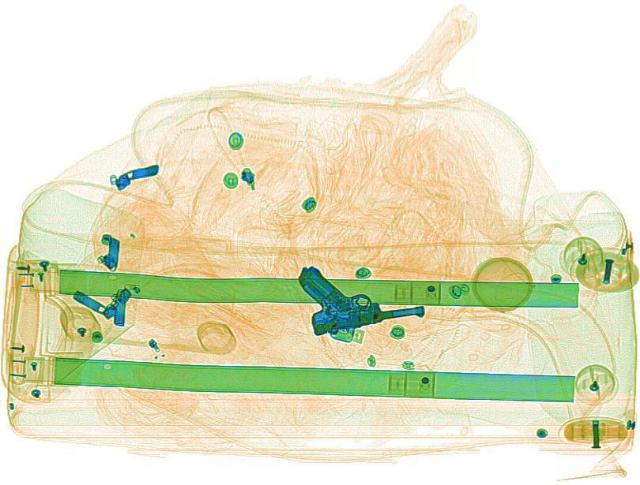Gun: (286, 264, 428, 342)
